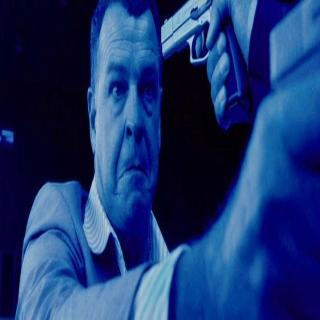gun: (150, 0, 255, 138)
